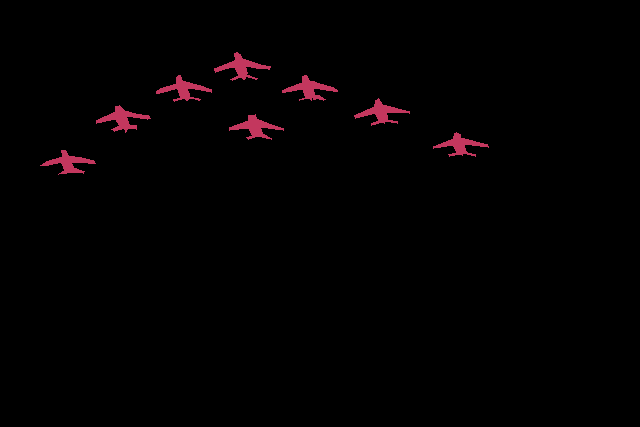Airplane: (214, 52, 270, 81), (96, 105, 151, 132), (354, 98, 409, 125), (156, 75, 212, 101), (282, 75, 338, 101), (229, 114, 284, 140), (40, 150, 95, 175), (433, 132, 488, 157)
